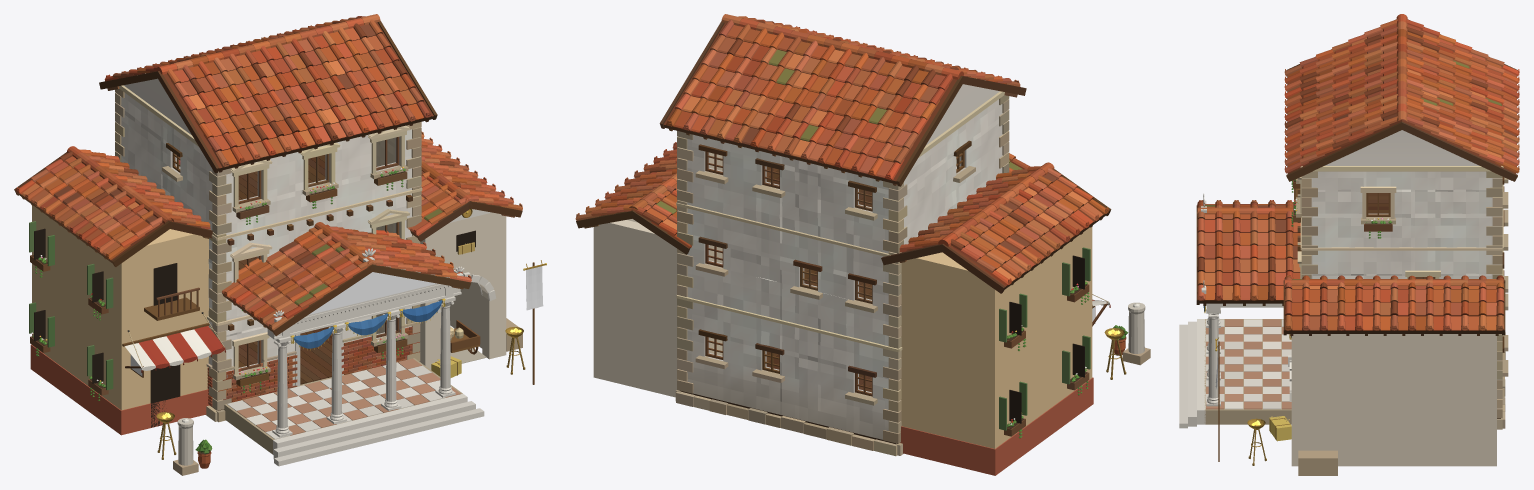
The model's file is civ_center6.glb.
3 renders of one model, left to right at view 1: azimuth 30°, elevation 25°; view 2: azimuth 150°, elevation 25°; view 3: azimuth 270°, elevation 25°, orthographic. The views are drawn at different scales.
Visible parts, largest first — view 1: House, Walls, Rooms; view 2: House, Walls, Rooms; view 3: House, Walls, Rooms.
Boxes of the visible parts, x1,y1,x2,y2 form: House: (14, 14, 546, 475); Walls: (121, 78, 418, 397); Rooms: (179, 137, 395, 384); House: (575, 14, 1150, 475); Walls: (680, 84, 1002, 439); Rooms: (709, 152, 956, 392); House: (1179, 14, 1519, 475); Walls: (1303, 130, 1500, 408); Rooms: (1368, 193, 1426, 278).
Bounding box in the file's own units: 10.42 × 7.84 × 7.71.
Materials: 11 (11 with a texture image).
